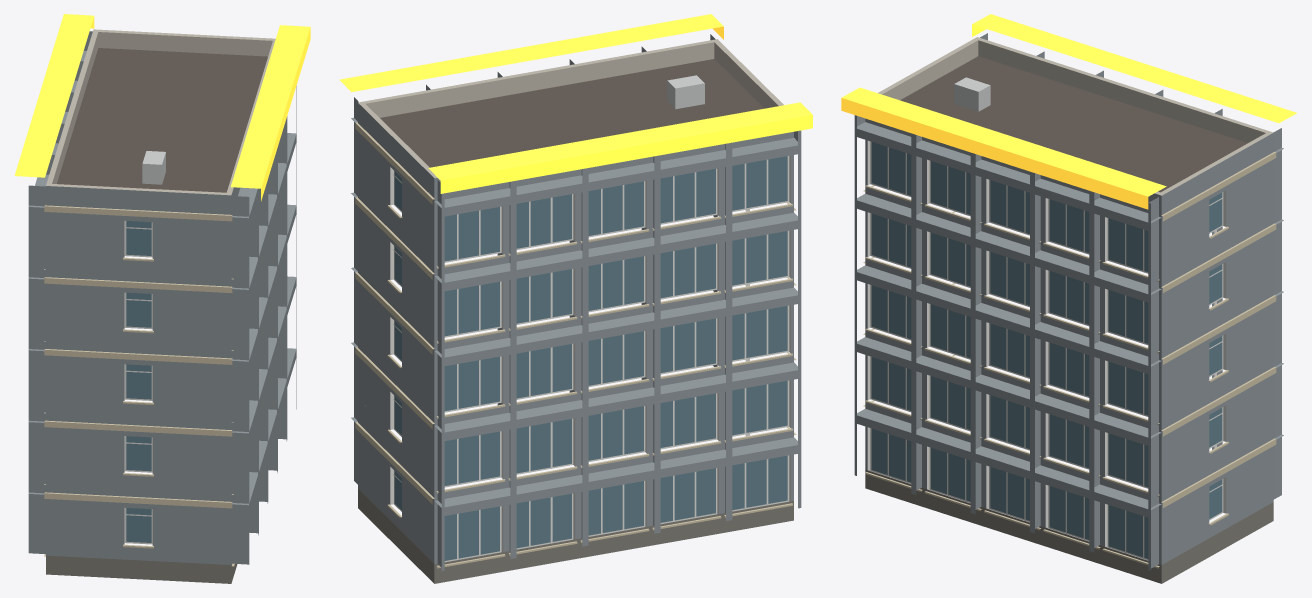
3 views of the same model, side by side, from view 1: azimuth 30°, elevation 25°; view 2: azimuth 150°, elevation 25°; view 3: azimuth 270°, elevation 25° (orthographic). The views are drawn at different scales.
Visible parts, largest first — view 1: wing5__wall-plaster, wing5__roof, wing5__eave-paint, wing5__trim-concrete, wing5__parapet-concrete, wing5__glass, wing5__base-stone, wing5__frame, wing5__equipment; view 2: wing5__wall-plaster, wing5__glass, wing5__roof, wing5__eave-paint, wing5__frame, wing5__trim-concrete, wing5__parapet-concrete, wing5__base-stone, wing5__equipment; view 3: wing5__wall-plaster, wing5__glass, wing5__roof, wing5__eave-paint, wing5__frame, wing5__trim-concrete, wing5__parapet-concrete, wing5__base-stone, wing5__equipment.
Part boxes in pixels (box(x1,y1,x2,y2)): wing5__wall-plaster: box(28, 31, 296, 564); wing5__roof: box(57, 48, 267, 192); wing5__eave-paint: box(14, 14, 310, 201); wing5__trim-concrete: box(44, 205, 234, 566); wing5__parapet-concrete: box(46, 29, 275, 195); wing5__glass: box(126, 221, 151, 542); wing5__base-stone: box(46, 555, 237, 583); wing5__frame: box(124, 220, 152, 544); wing5__equipment: box(142, 151, 165, 184); wing5__wall-plaster: box(351, 34, 801, 571); wing5__glass: box(394, 156, 787, 560); wing5__roof: box(380, 59, 764, 167); wing5__eave-paint: box(339, 14, 812, 193); wing5__frame: box(390, 155, 790, 562); wing5__trim-concrete: box(355, 122, 796, 568); wing5__parapet-concrete: box(358, 39, 783, 178); wing5__base-stone: box(358, 489, 793, 583); wing5__equipment: box(667, 75, 704, 109); wing5__wall-plaster: box(854, 33, 1283, 570); wing5__glass: box(871, 142, 1222, 558); wing5__roof: box(900, 56, 1247, 192); wing5__eave-paint: box(841, 14, 1296, 209); wing5__frame: box(867, 140, 1226, 560); wing5__trim-concrete: box(863, 152, 1276, 568); wing5__parapet-concrete: box(878, 37, 1273, 195); wing5__base-stone: box(865, 469, 1273, 583); wing5__equipment: box(954, 77, 990, 111).
Size of the model in its own units: 19.69 by 20.05 by 20.78.
